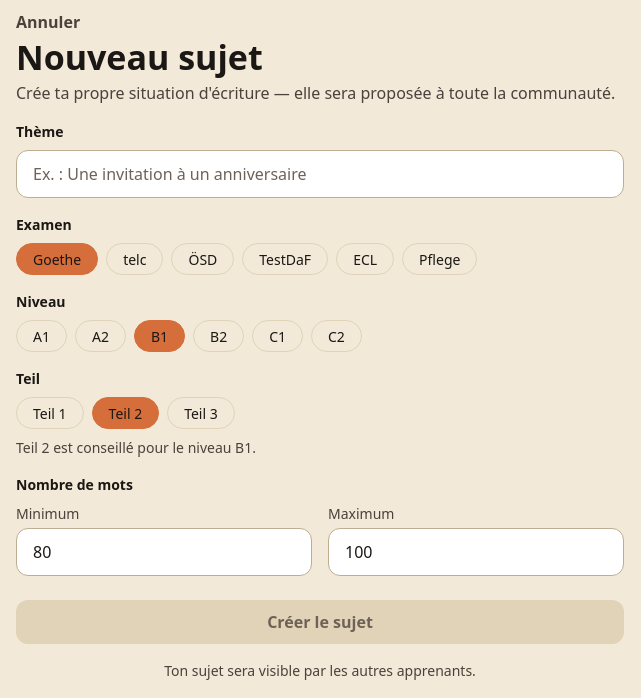
Scenario: CustomPromptScreen — community prompt authoring (S6 Task 6.7) › server error code invalid_payload renders its mapped copy
The image size is (641, 698).
Type "Eine Einladung" into the field with placeholder "Ex. : Une invitation à un anniversaire". click: [320, 174]
box: left=16, top=150, right=624, bottom=198
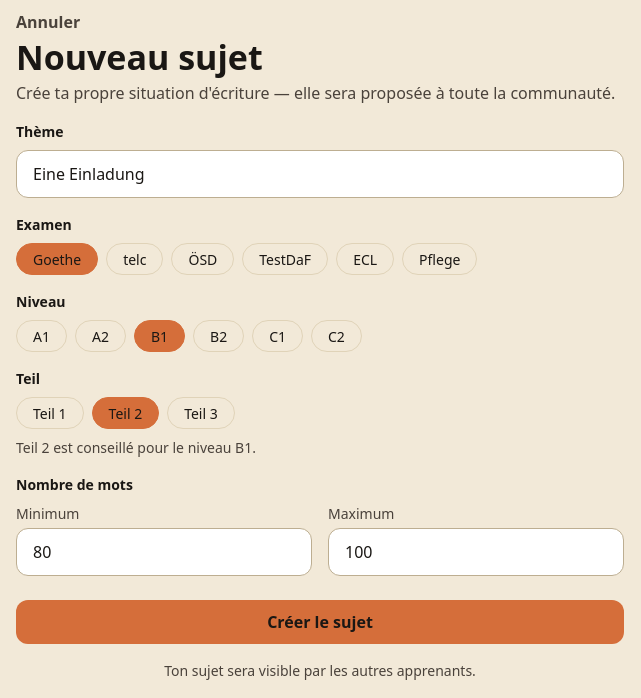
Click the button with test id "schreiben-custom-prompt-submit". click: [320, 622]
box: left=16, top=600, right=624, bottom=644
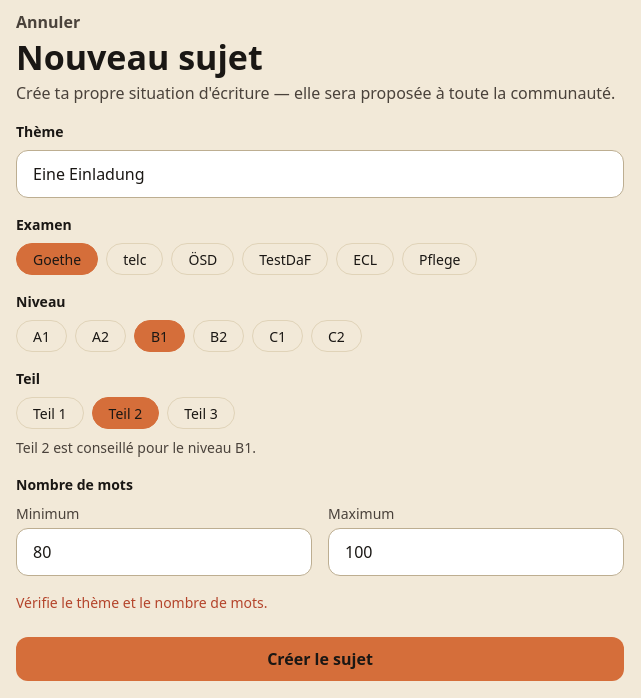
Expected: the message with test id "schreiben-custom-prompt-error" reads "Vérifie le thème et le nombre de mots.", left=16, top=593, right=268, bottom=612
